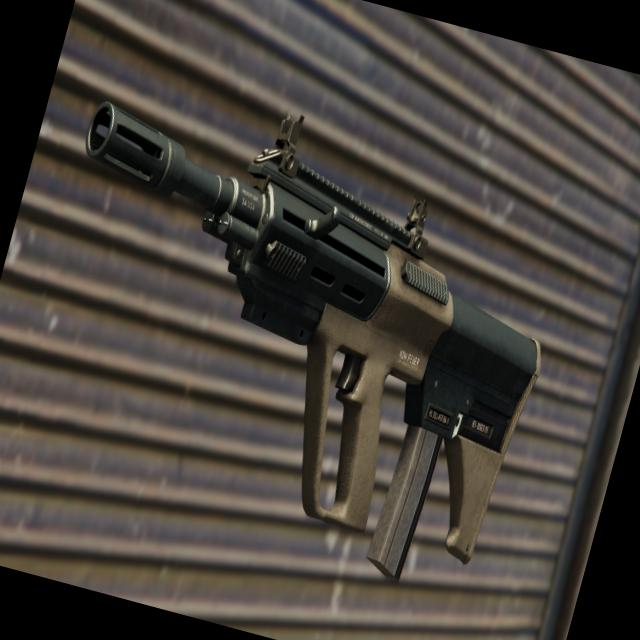long weapon: (0, 74, 596, 606)
